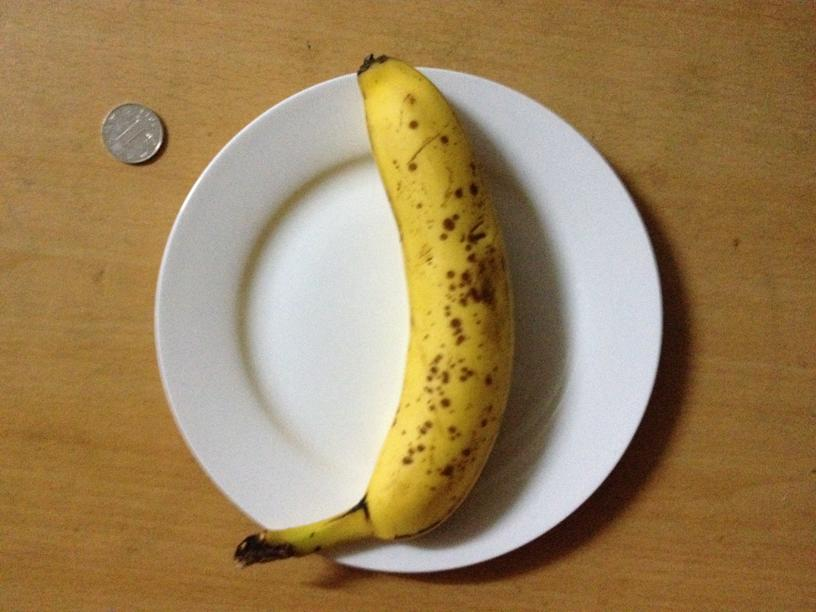banana: (275, 56, 516, 549)
coin: (101, 99, 164, 166)
